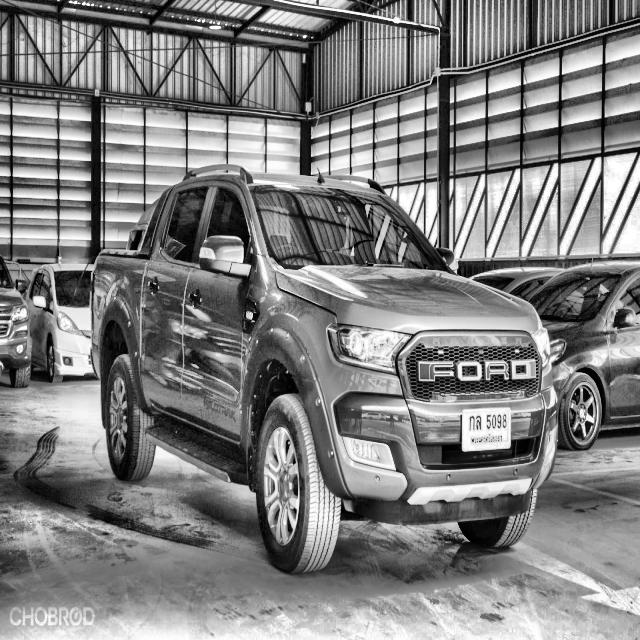license-plate: (461, 406, 514, 454)
